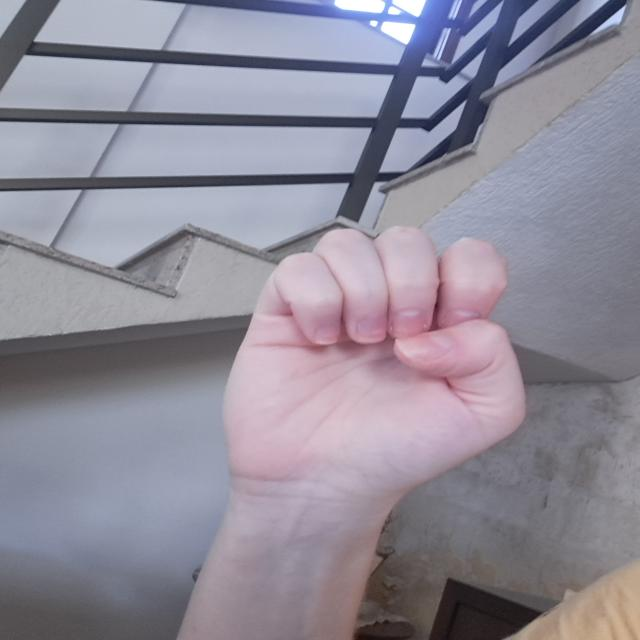E: (209, 216, 528, 504)
